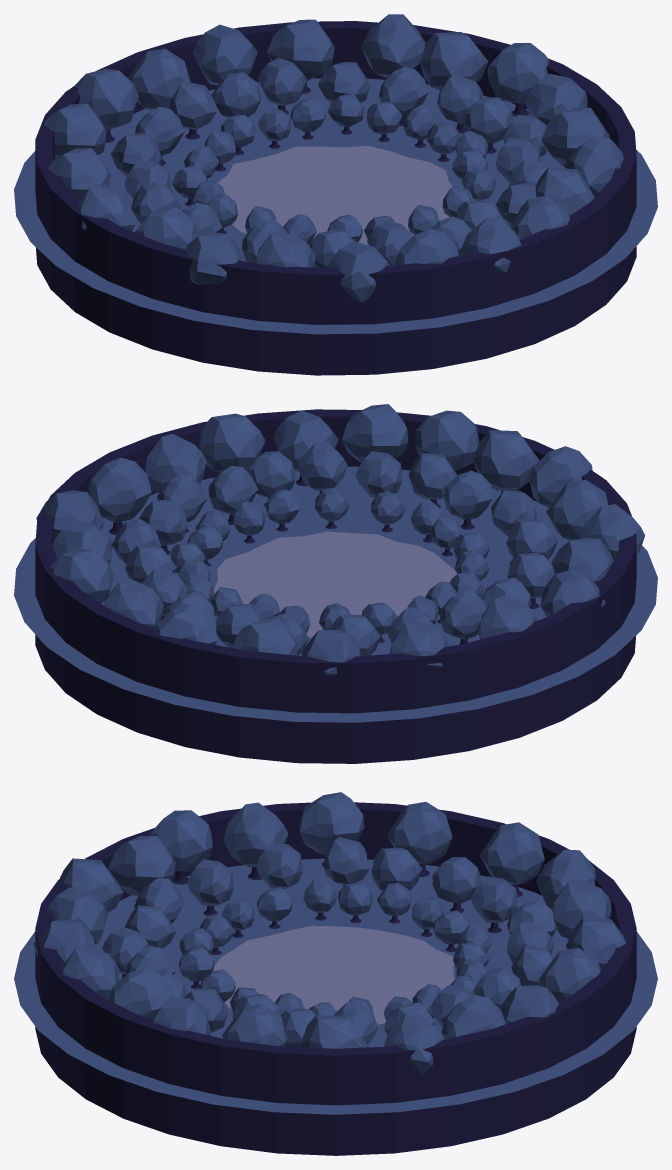
Rendered from Graveyard3d.fbx.
3 views of the same model, one above another, from view 1: azimuth 30°, elevation 25°; view 2: azimuth 150°, elevation 25°; view 3: azimuth 270°, elevation 25° (orthographic).
Visible parts, largest first — view 1: Trees and Wall.001, Ground.001; view 2: Trees and Wall.001, Ground.001; view 3: Trees and Wall.001, Ground.001.
Boxes of the visible parts, x1,y1,x2,y2 form: Trees and Wall.001: (35, 14, 636, 375); Ground.001: (14, 78, 657, 334); Trees and Wall.001: (35, 404, 644, 763); Ground.001: (14, 466, 657, 722); Trees and Wall.001: (33, 792, 636, 1155); Ground.001: (14, 858, 657, 1114).
Bounding box in the file's own units: 52432 × 52432 × 10593.
